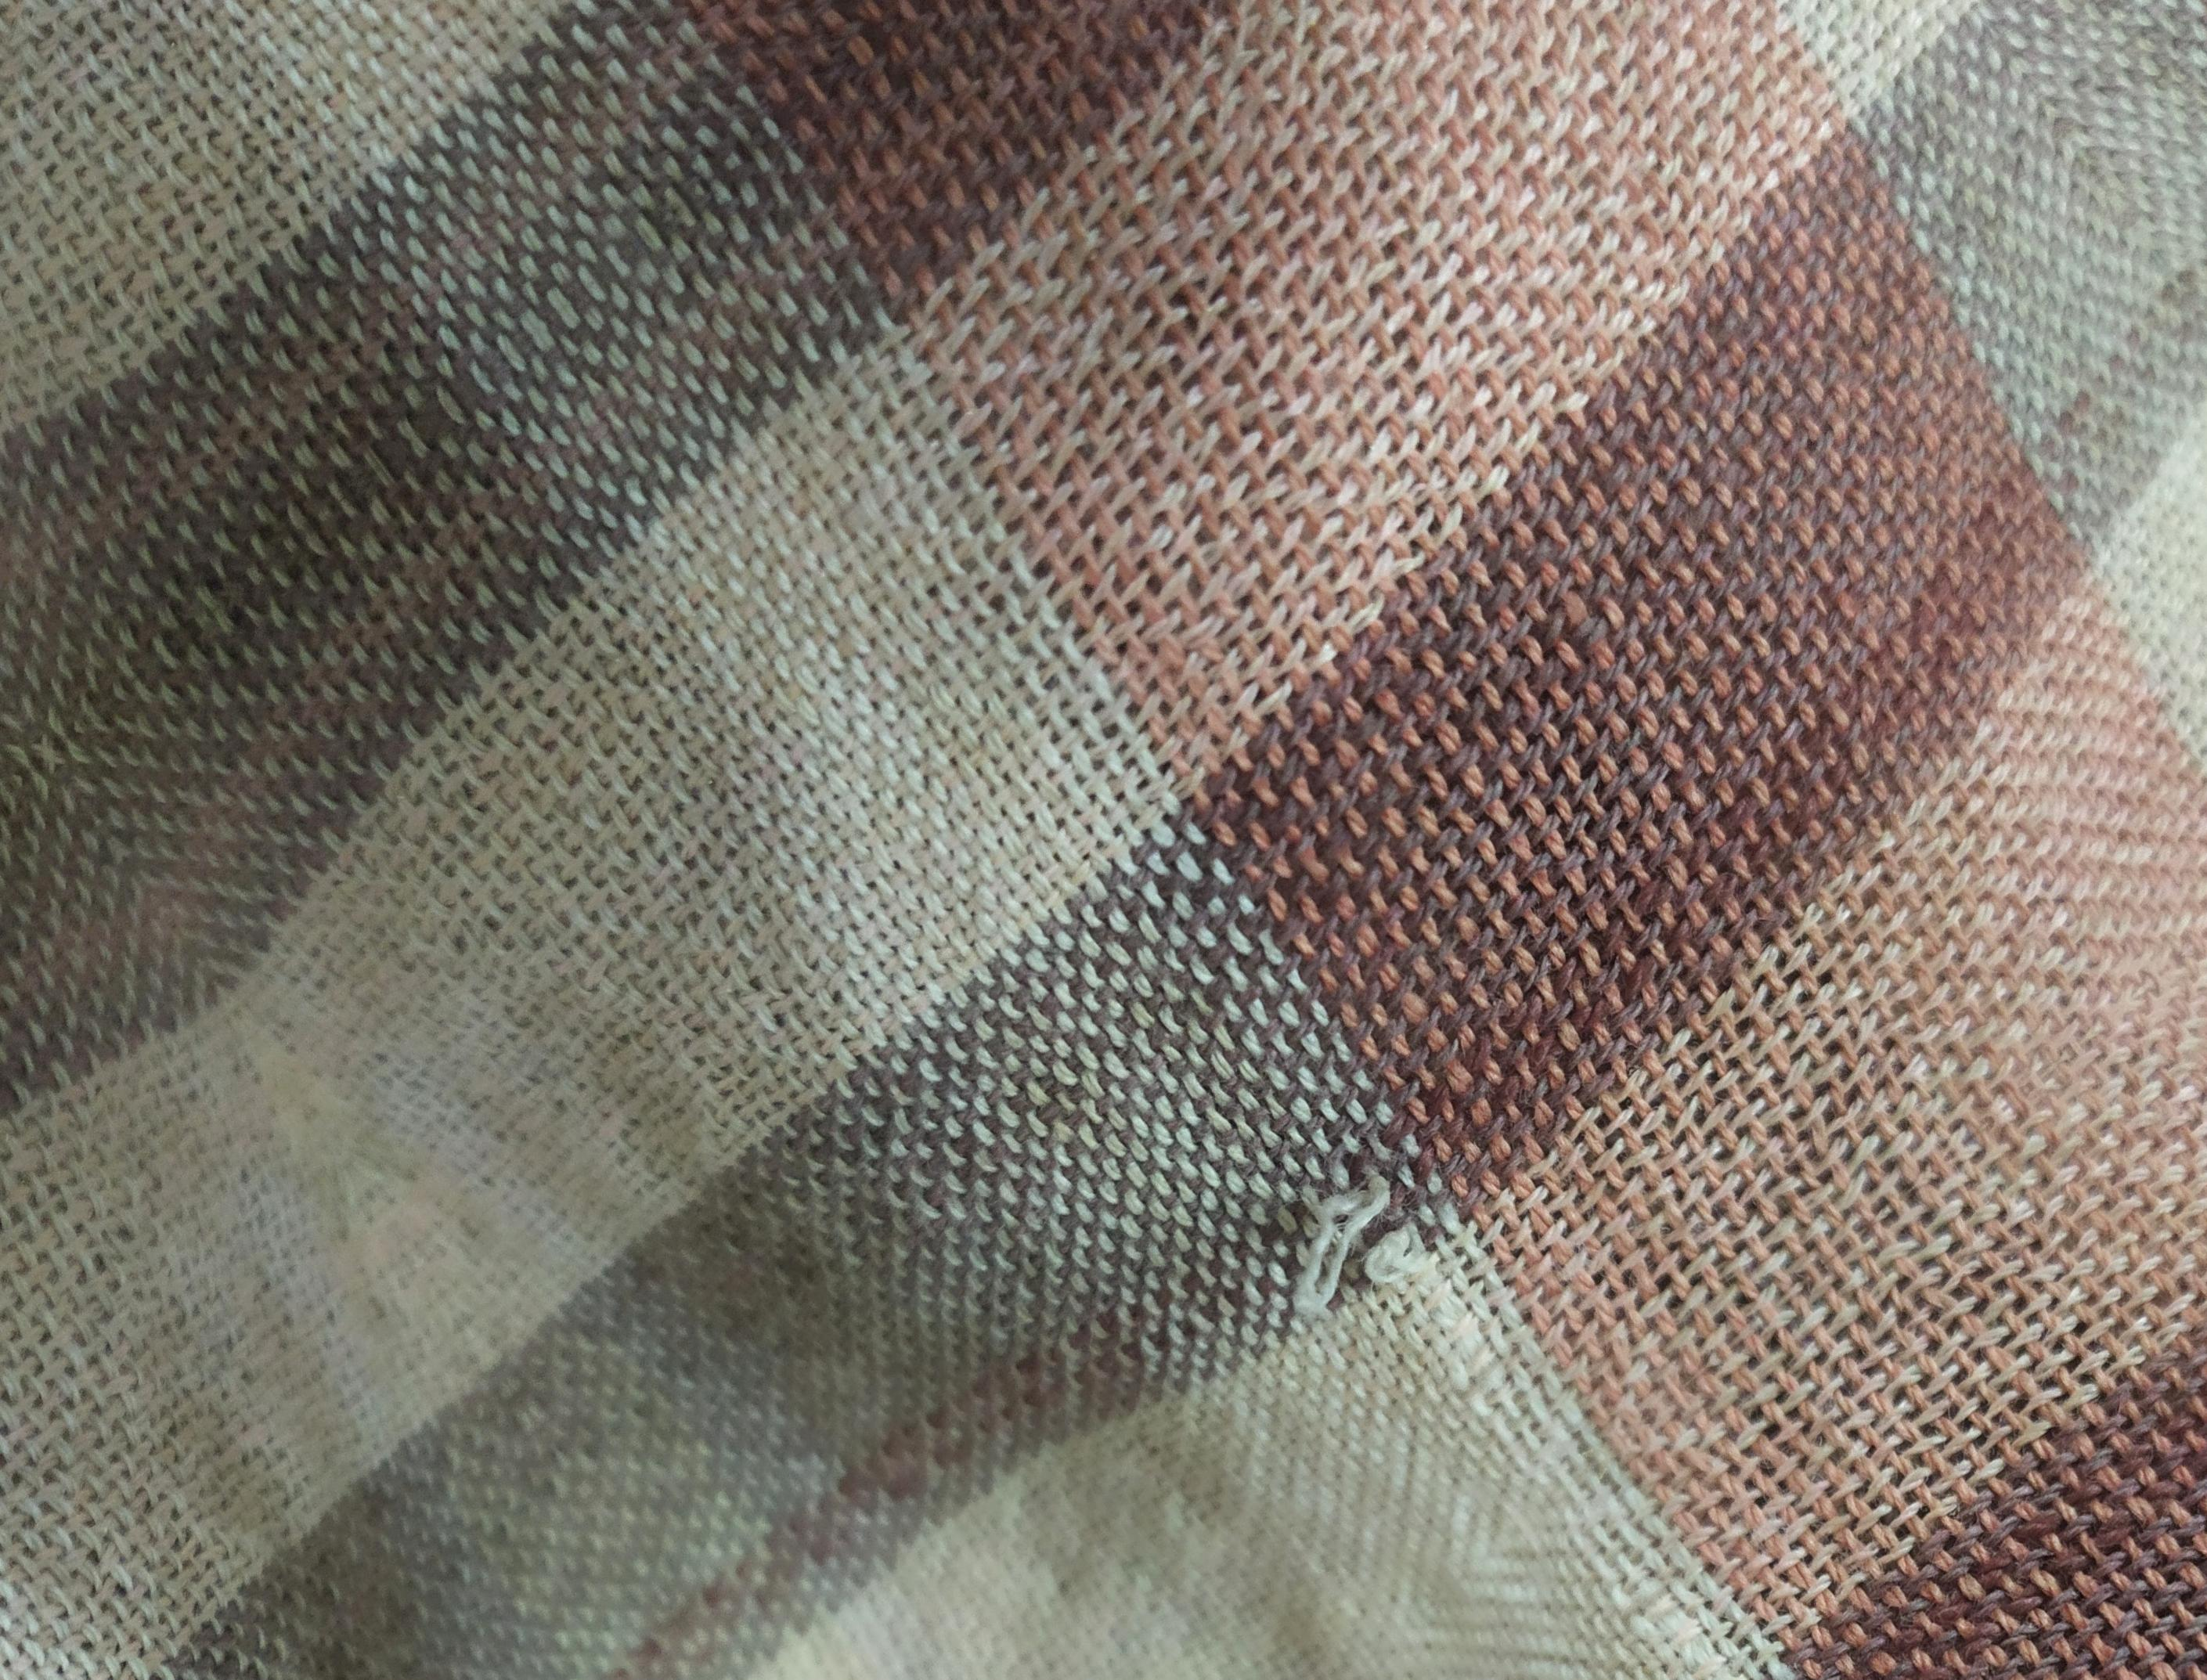snag: (1260, 1149, 1447, 1345)
